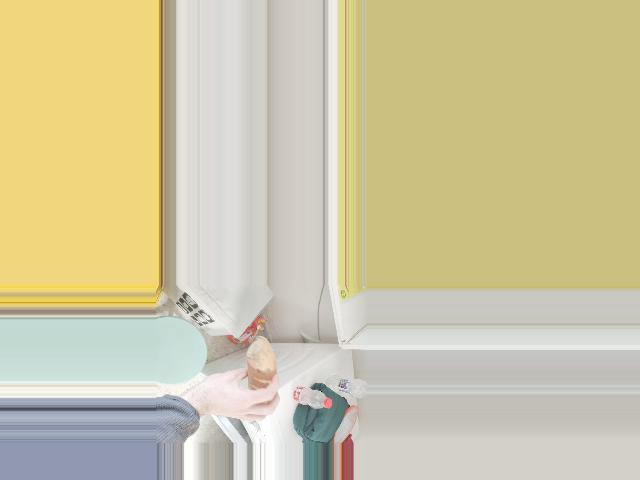sweet_potato: (247, 348, 276, 393)
